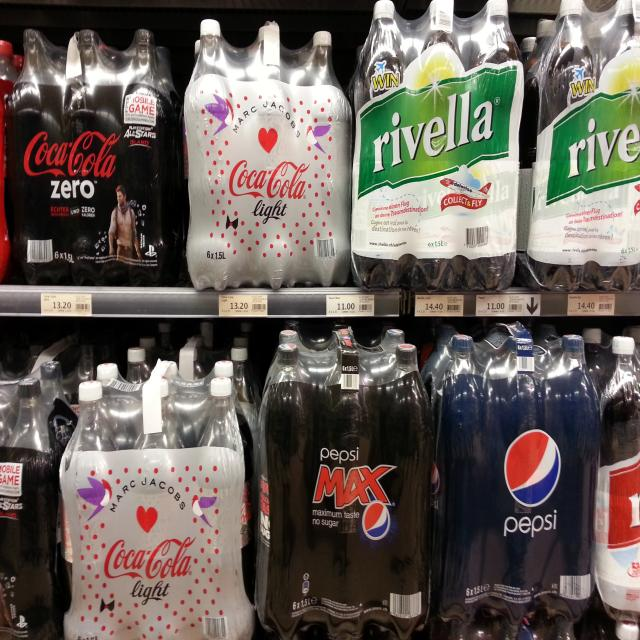SoftDrinks: (424, 319, 600, 640), (257, 332, 431, 640), (61, 361, 253, 640), (352, 0, 524, 289), (7, 27, 181, 285), (185, 20, 348, 285), (528, 0, 640, 288), (0, 354, 62, 640)
